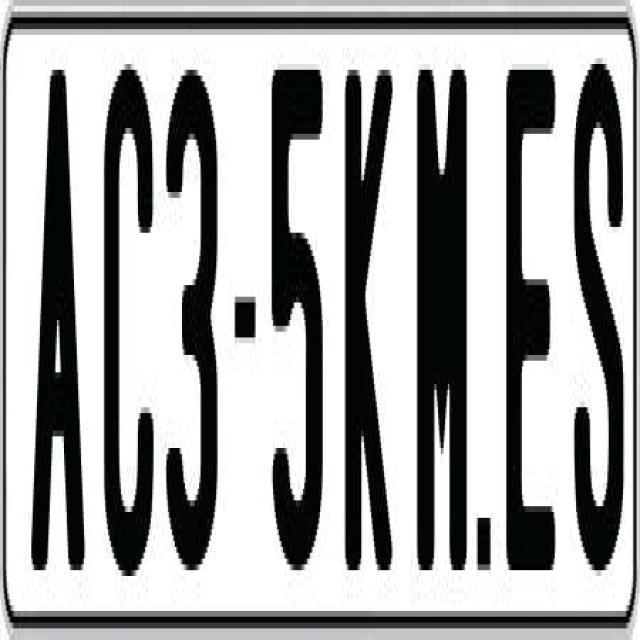3: (163, 58, 222, 570)
5: (269, 52, 323, 588)
A: (29, 63, 92, 600)
C: (100, 52, 154, 570)
E: (506, 58, 555, 559)
K: (346, 52, 402, 564)
M: (412, 64, 463, 594)
S: (570, 52, 619, 570)
